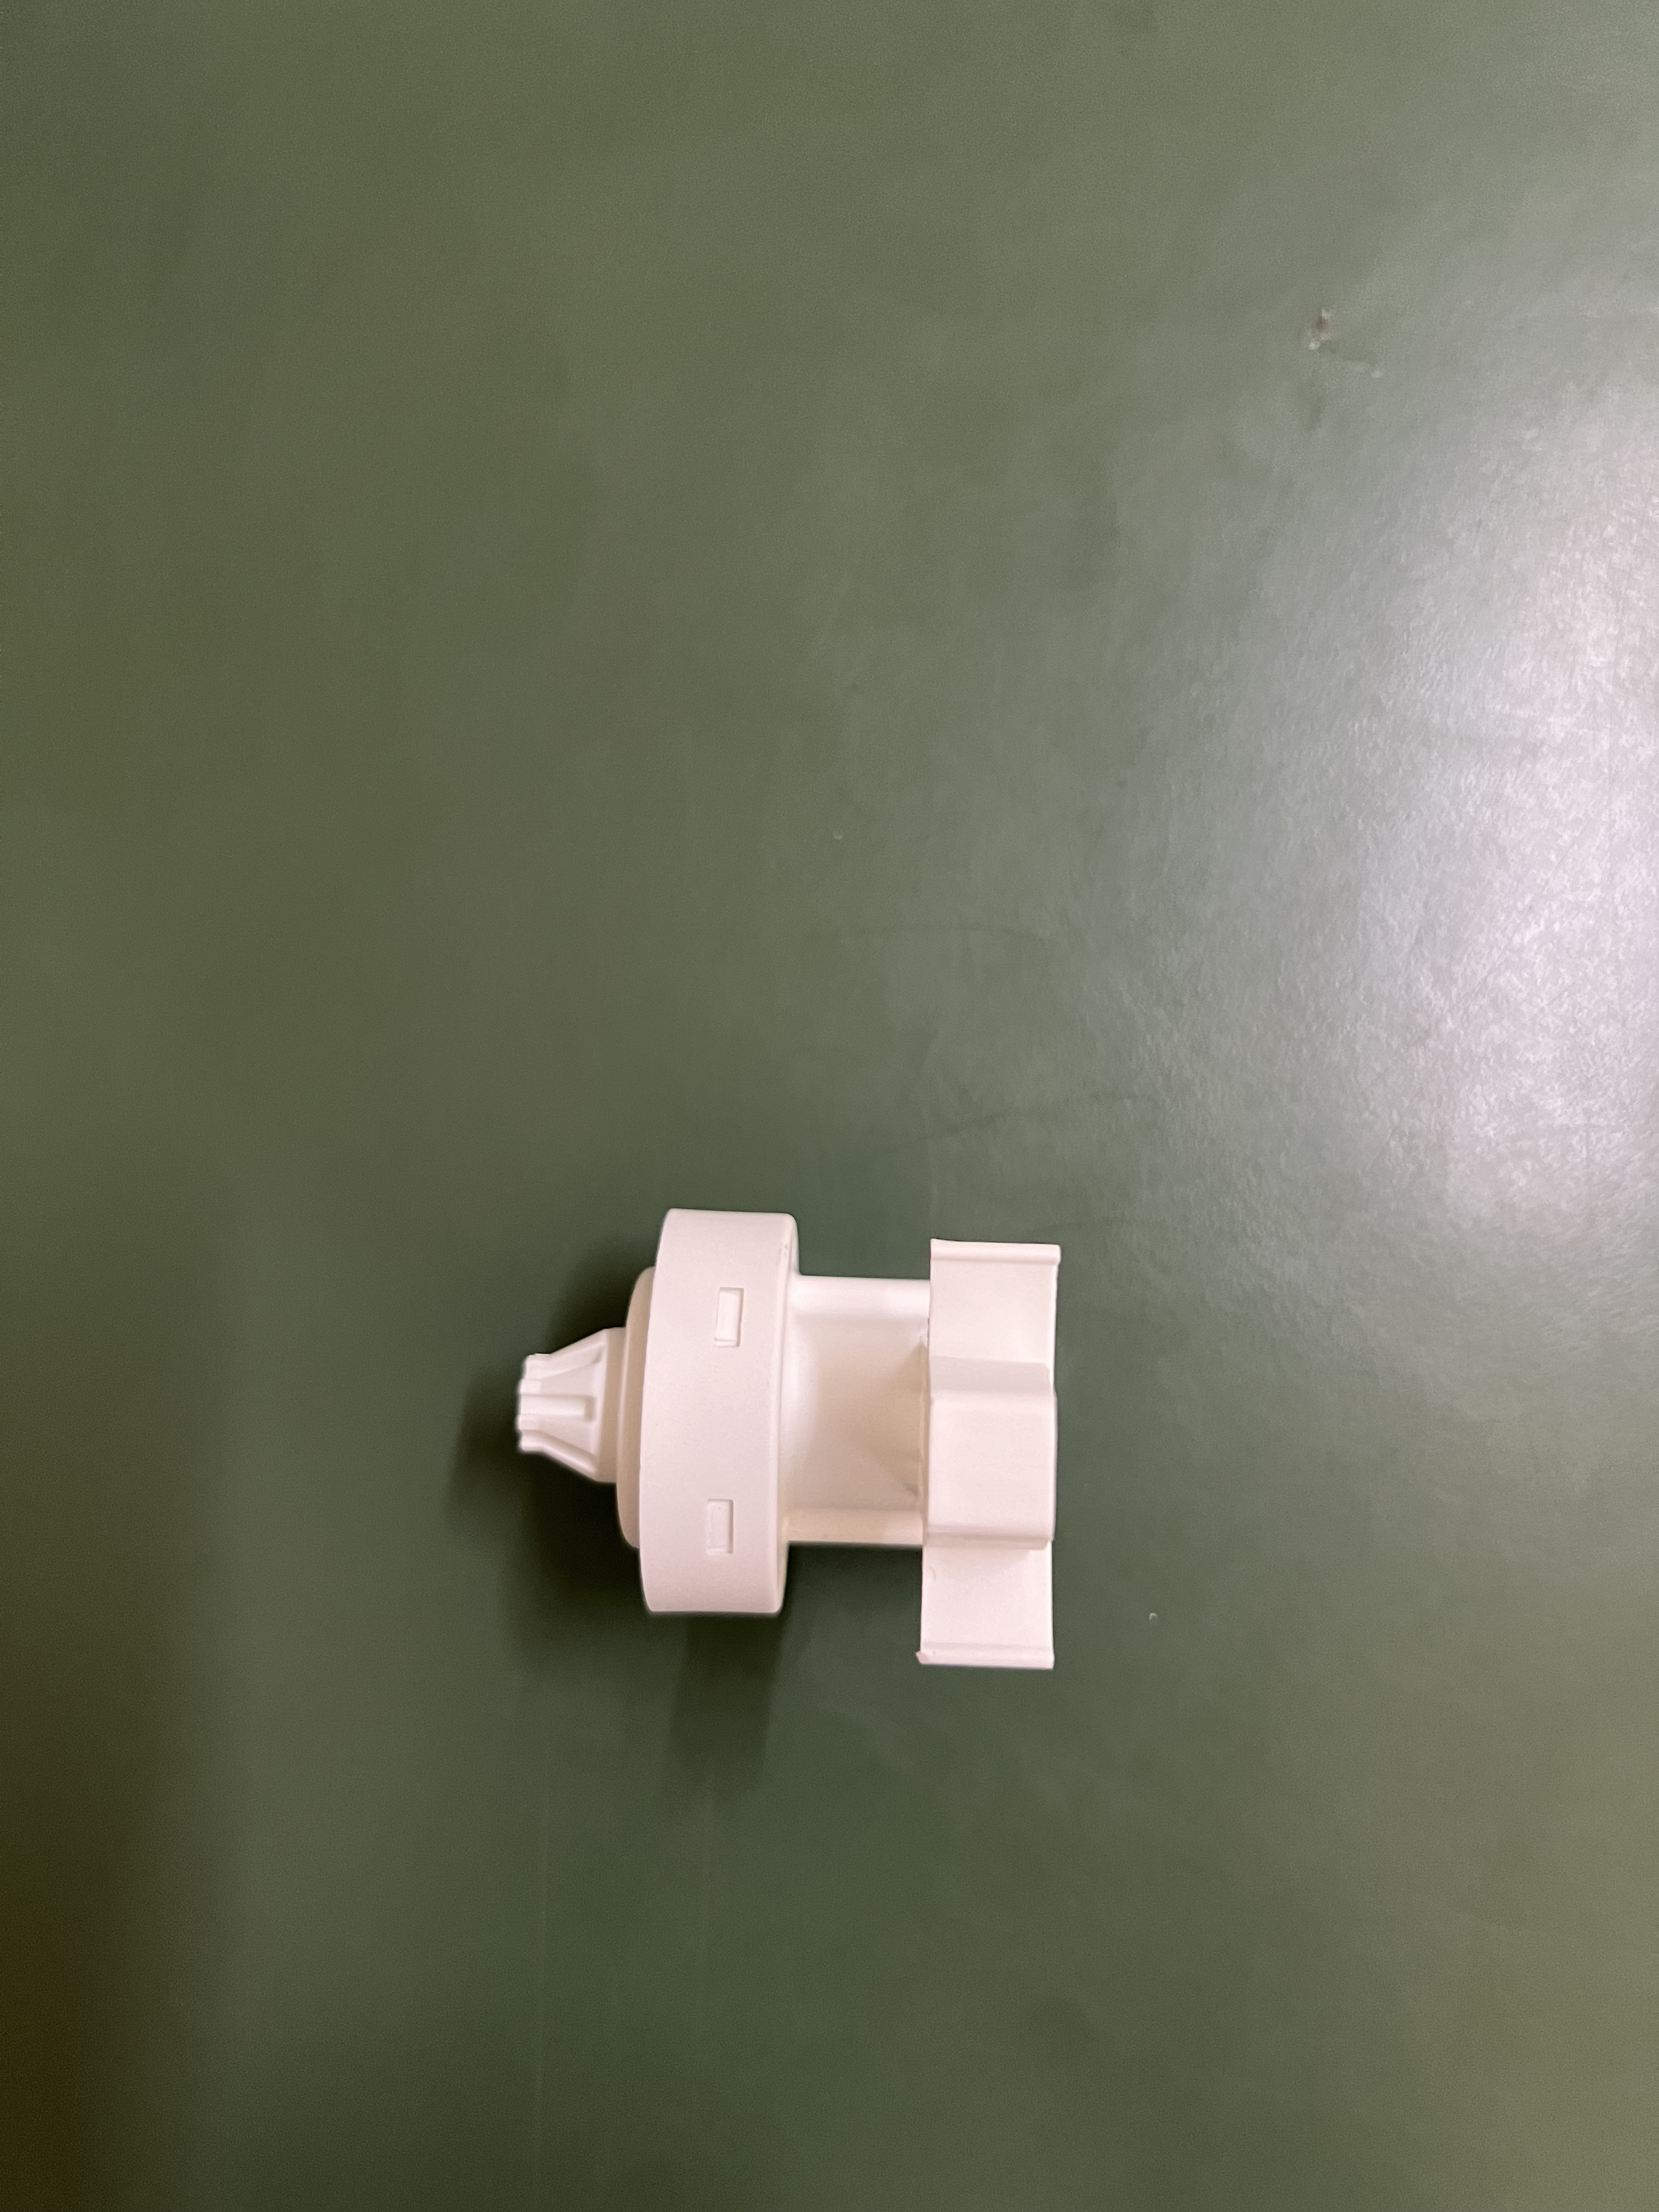pressure_switch_1: (429, 1190, 1107, 1705)
